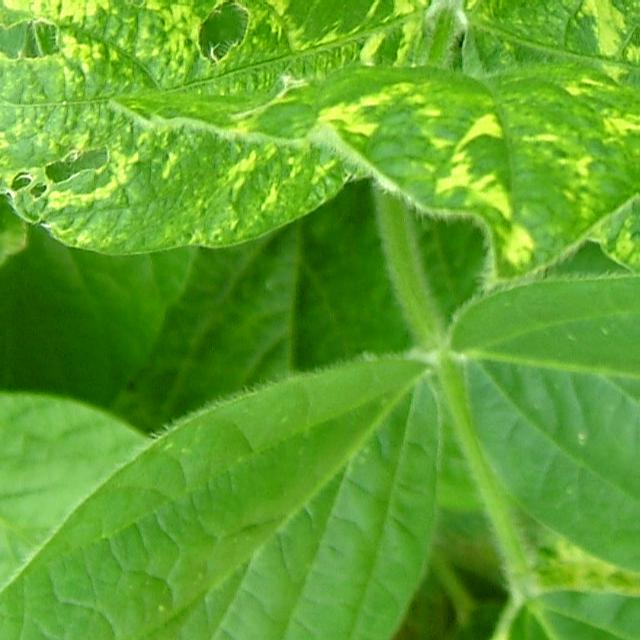Tomato leaf mosaic virus: (0, 0, 433, 280), (451, 270, 640, 601), (475, 0, 640, 260)
